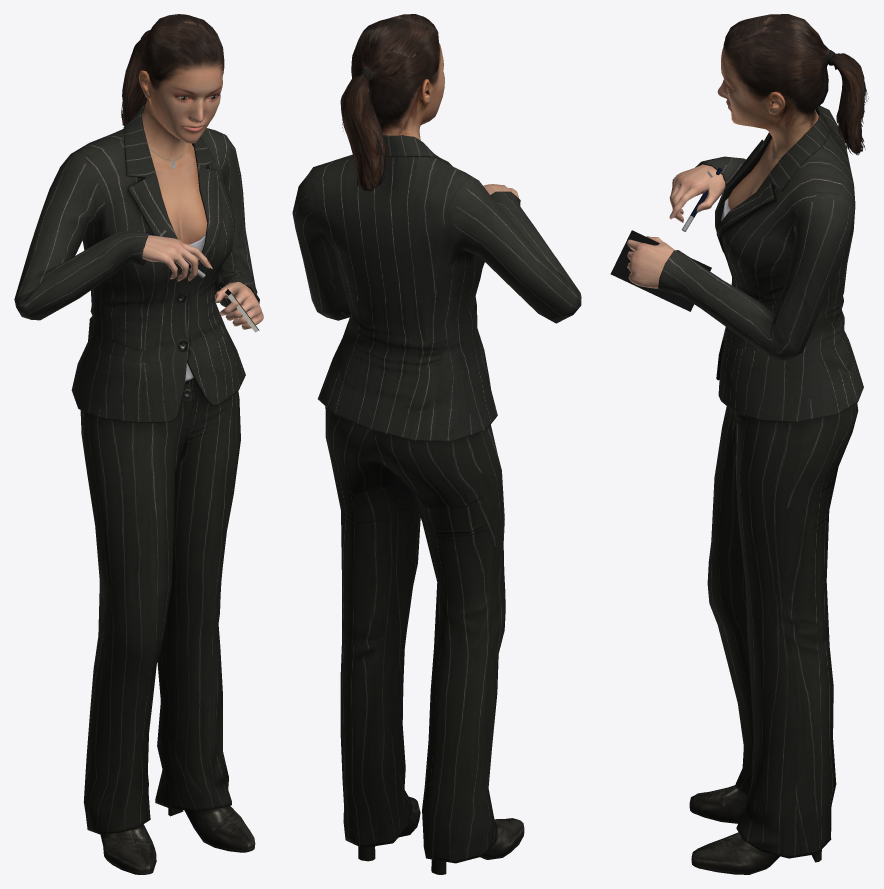
File: DetectiveFemale_TakingNotes.obj
3 views of the same model, side by side, from view 1: azimuth 30°, elevation 25°; view 2: azimuth 150°, elevation 25°; view 3: azimuth 270°, elevation 25° (orthographic). The views are drawn at different scales.
Parts seen in each view (by area): view 1: Body, Head; view 2: Body, Head, Hair; view 3: Body, Head, Props, Hair.
Boxes of the visible parts, x1,y1,x2,y2 form: Body: [14, 104, 263, 874]; Head: [123, 14, 224, 203]; Body: [292, 135, 581, 874]; Head: [341, 14, 444, 190]; Hair: [340, 74, 389, 191]; Body: [626, 105, 863, 874]; Head: [717, 14, 864, 189]; Props: [610, 167, 722, 311]; Hair: [727, 53, 868, 155].
Bounding box in the file's own units: 0.5565 × 1.73 × 0.4851.
Materials: 4 (4 with a texture image).
